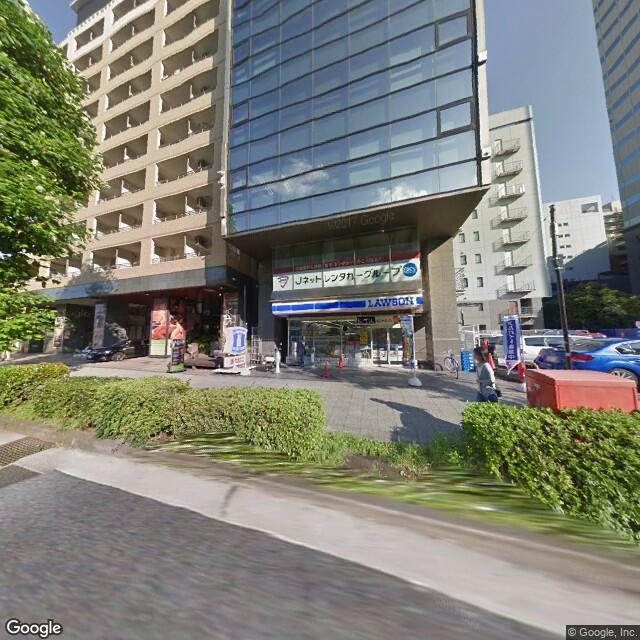lawson: (272, 286, 425, 319), (227, 327, 249, 353)
